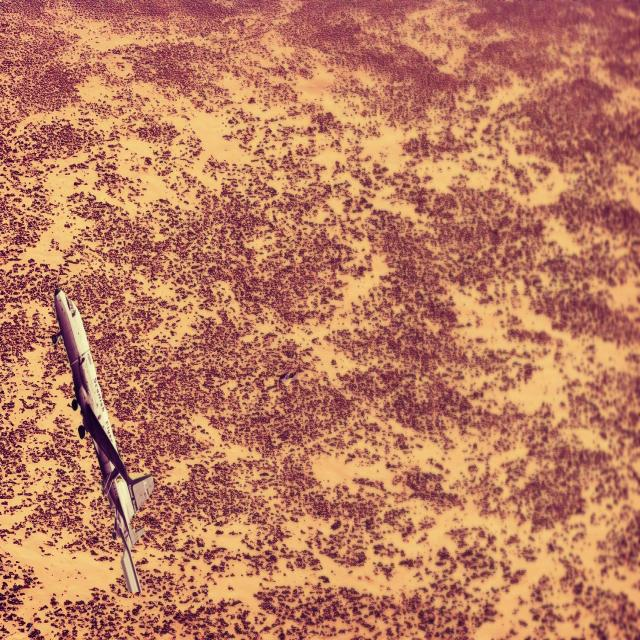airplane: (53, 286, 154, 596)
